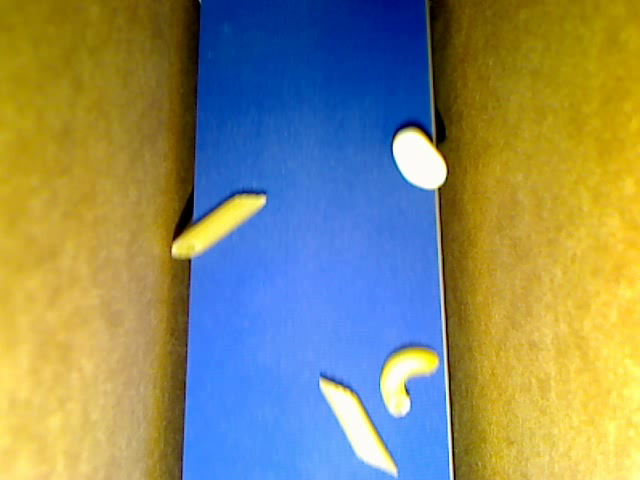elbow: (379, 346, 441, 416)
penne: (318, 374, 397, 475), (170, 193, 266, 256)
